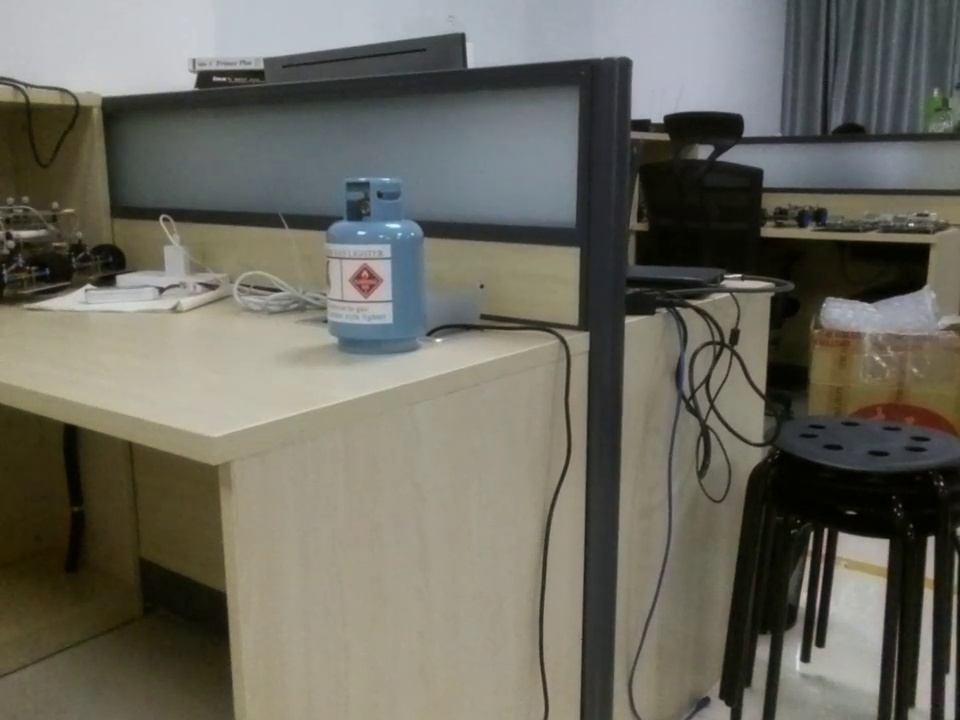gas tank: (318, 171, 442, 360)
